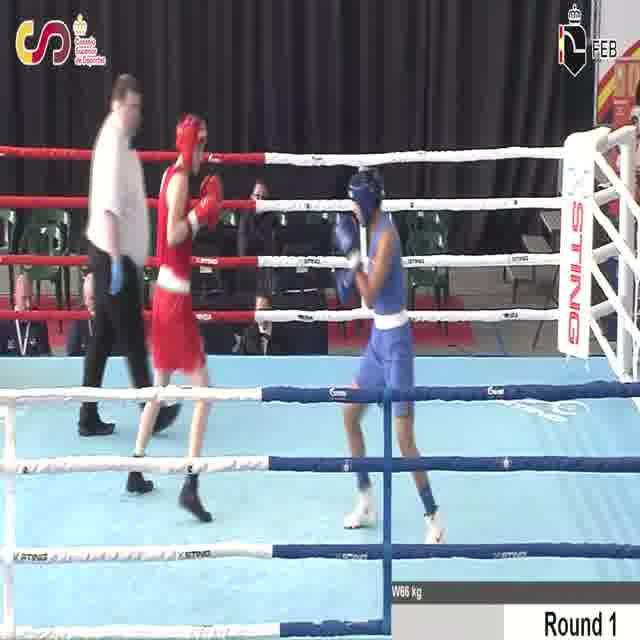blue-player: (330, 167, 449, 551)
red-player: (122, 108, 224, 527)
referee: (74, 71, 185, 443)
